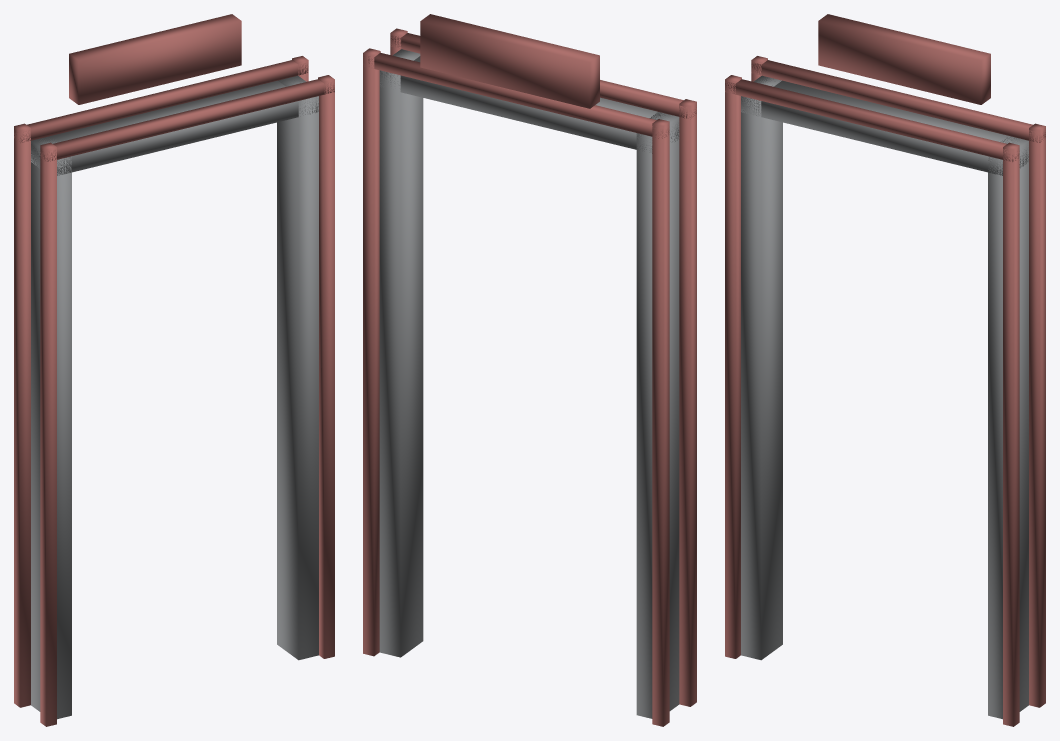
The model's file is doorway_emergency_exit_w96_h220_d16.glb.
3 renders of one model, left to right at view 1: azimuth 30°, elevation 25°; view 2: azimuth 150°, elevation 25°; view 3: azimuth 330°, elevation 25°, orthographic. The views are drawn at different scales.
Parts seen in each view (by area): view 1: world; view 2: world; view 3: world.
Boxes of the visible parts, left/top/right/bottom form: world: left=14, top=14, right=334, bottom=726; world: left=363, top=14, right=696, bottom=726; world: left=725, top=14, right=1045, bottom=726.
Size of the model in its own units: 1.22 by 2.55 by 0.2932.
